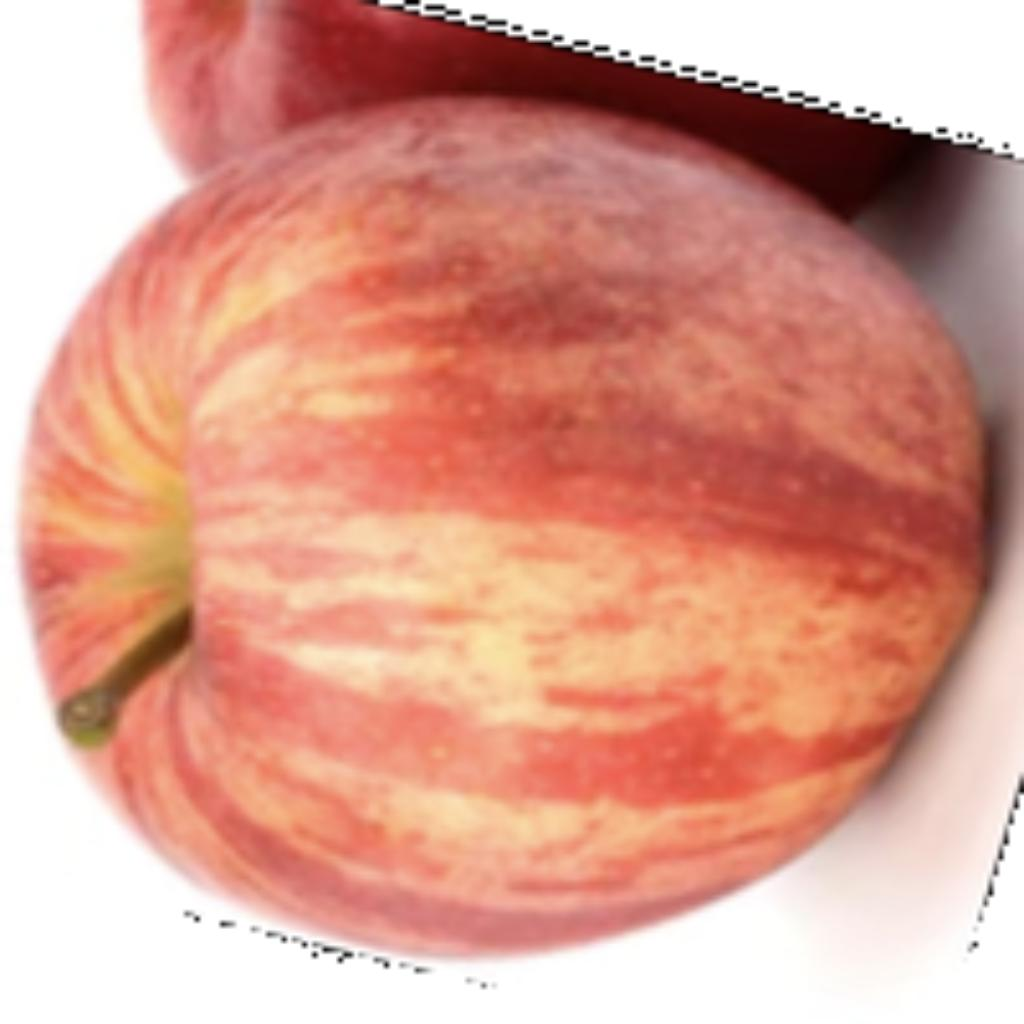apple: (5, 0, 1019, 988)
